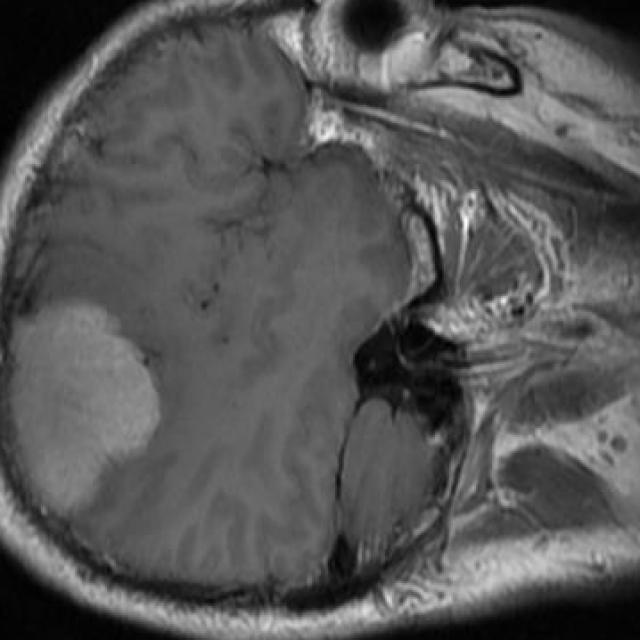meningioma: (12, 303, 160, 510)
